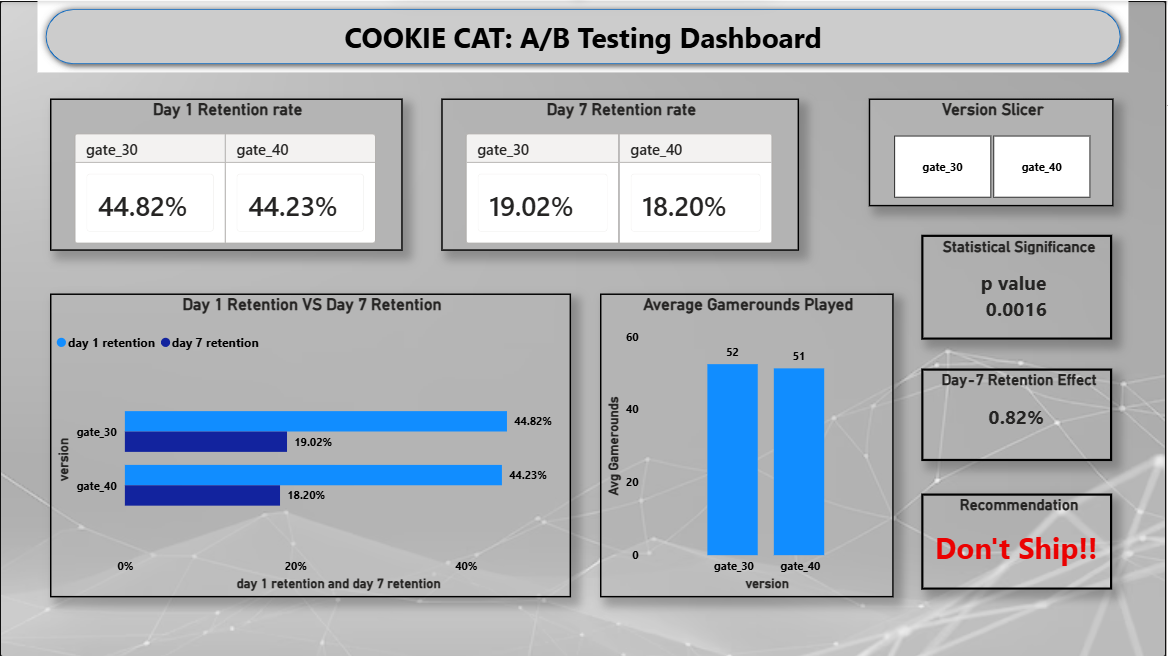

The page's visual inventory and layout, read from the dashboard file:
{"tool":"powerbi","page":{"name":"Page 1","canvas":[1280,720],"ordinal":0},"visuals":[{"type":"slicer","title":"Version Slicer","fields":{"Values":["cookie_cats_raw.version"]},"box":[953.7,107,269,118],"z":0},{"type":"cardVisual","title":"Day 7 Retention rate","fields":{"Data":["cookie_cats_raw.day7 retention"],"Rows":["cookie_cats_raw.version"]},"box":[484.4,107,392.5,167.4],"z":1000},{"type":"cardVisual","title":"Day 1 Retention rate","fields":{"Rows":["cookie_cats_raw.version"],"Data":["cookie_cats_raw.day 1 retention"]},"box":[54.9,107,387,167.4],"z":2000},{"type":"clusteredBarChart","title":"Day 1 Retention VS Day 7 Retention","fields":{"Y":["cookie_cats_raw.day 1 retention","cookie_cats_raw.day7 retention"],"Category":["cookie_cats_raw.version"]},"box":[54.9,321.1,572.2,333.4],"z":3000},{"type":"shape","box":[41.2,0,1197.9,78.2],"z":4000},{"type":"textbox","title":"Statistical Significance","box":[1011,257.2,209.9,115.3],"z":5000},{"type":"clusteredColumnChart","title":"Average Gamerounds Played","fields":{"Category":["cookie_cats_raw.version"],"Y":["cookie_cats_raw.Avg Gamerounds"]},"box":[658.7,321.1,322.5,333.4],"z":6004},{"type":"textbox","title":"Day-7 Retention Effect","box":[1011,404,209.9,101.5],"z":6005},{"type":"textbox","title":"Recommendation","box":[1011,541.2,209.9,105.7],"z":6006}]}

Visuals, with their boxes in screenshot pixels (x1, y1, x2, y2), scaled from the page's 1280x720 canvas onto the 1168x656 screenshot:
"Version Slicer" slicer: [870, 97, 1116, 205]
"Day 7 Retention rate" cardVisual: [442, 97, 800, 250]
"Day 1 Retention rate" cardVisual: [50, 97, 403, 250]
"Day 1 Retention VS Day 7 Retention" clusteredBarChart: [50, 293, 572, 596]
shape: [38, 0, 1131, 71]
"Statistical Significance" textbox: [923, 234, 1114, 339]
"Average Gamerounds Played" clusteredColumnChart: [601, 293, 895, 596]
"Day-7 Retention Effect" textbox: [923, 368, 1114, 461]
"Recommendation" textbox: [923, 493, 1114, 589]
